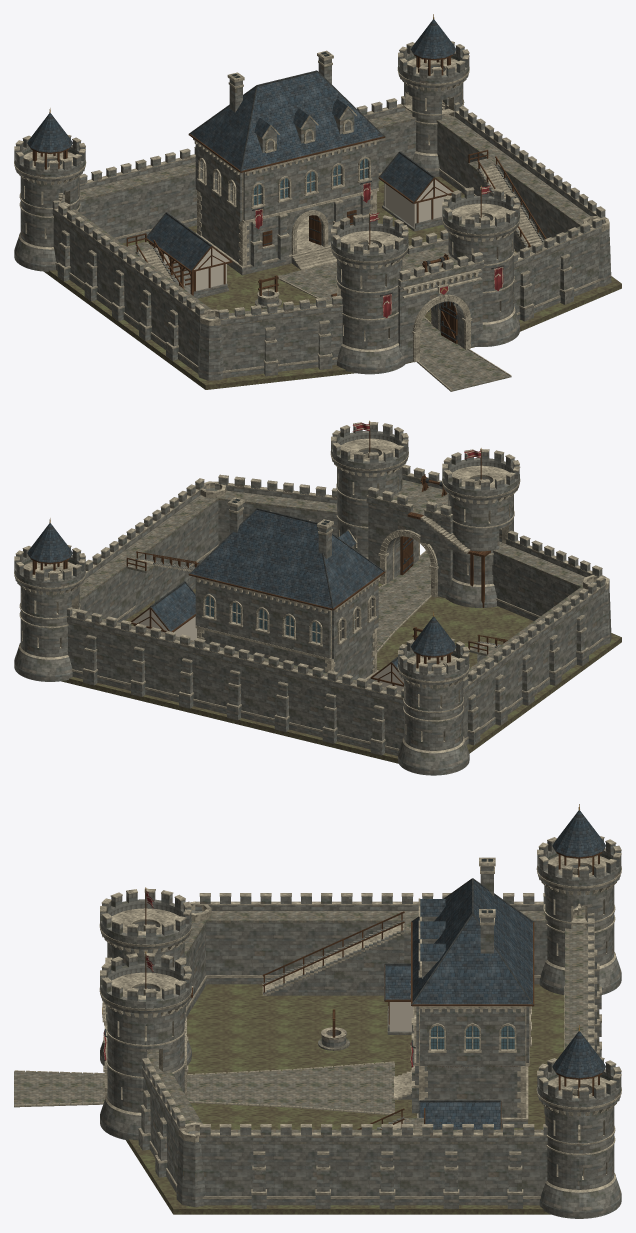
The model's file is Highmere_LOD1.fbx.
3 renders of one model, top to bottom at view 1: azimuth 30°, elevation 25°; view 2: azimuth 150°, elevation 25°; view 3: azimuth 270°, elevation 25°, orthographic. The views are drawn at different scales.
Visible parts, largest first — view 1: Keep • quoins roof and chimneys, West • long curtain, North • rear curtain, West • gate tower, East • long curtain, West • southern return, Ward • graded earth and foundation, East • gate tower, Gatehouse • vaulted throat and guard terrace, West • rear watchtower, Keep • foundation and lower hall, Keep • South gallery bays (+13 smaller); view 2: North • rear curtain, Keep • quoins roof and chimneys, West • long curtain, West • rear watchtower, East • long curtain, Ward • graded earth and foundation, West • gate tower, East • rear watchtower, Keep • North gallery bays, Gatehouse • vaulted throat and guard terrace, East • gate tower, West • southern return (+8 smaller); view 3: East • long curtain, Ward • graded earth and foundation, Keep • quoins roof and chimneys, West • long curtain, East • rear watchtower, East • gate tower, Ward • gate road and keep apron, West • rear watchtower, Keep • East gallery bays, West stair, West • gate tower, Keep • foundation and lower hall (+8 smaller).
Part boxes in pixels (<box>): Keep • quoins roof and chimneys: <box>188,50,385,266</box>; West • long curtain: <box>46,200,214,373</box>; North • rear curtain: <box>61,96,416,243</box>; West • gate tower: <box>330,214,408,374</box>; East • long curtain: <box>429,98,606,239</box>; West • southern return: <box>211,295,365,378</box>; Ward • graded earth and foundation: <box>44,176,621,389</box>; East • gate tower: <box>442,187,520,346</box>; Gatehouse • vaulted throat and guard terrace: <box>397,229,484,363</box>; West • rear watchtower: <box>14,108,86,271</box>; Keep • foundation and lower hall: <box>196,188,378,275</box>; Keep • South gallery bays: <box>243,139,379,220</box>; North • rear curtain: <box>66,607,403,755</box>; Keep • quoins roof and chimneys: <box>188,497,385,673</box>; West • long curtain: <box>463,576,606,745</box>; West • rear watchtower: <box>397,611,469,775</box>; East • long curtain: <box>79,478,219,622</box>; Ward • graded earth and foundation: <box>61,582,621,763</box>; West • gate tower: <box>442,449,520,607</box>; East • rear watchtower: <box>14,518,86,681</box>; Keep • North gallery bays: <box>194,577,330,658</box>; Gatehouse • vaulted throat and guard terrace: <box>366,464,453,598</box>; East • gate tower: <box>330,422,408,574</box>; West • southern return: <box>492,528,604,620</box>; East • long curtain: <box>195,1124,579,1208</box>; Ward • graded earth and foundation: <box>126,984,564,1214</box>; Keep • quoins roof and chimneys: <box>411,857,534,1117</box>; West • long curtain: <box>195,893,576,984</box>; East • rear watchtower: <box>536,1025,621,1218</box>; East • gate tower: <box>99,953,192,1140</box>; Ward • gate road and keep apron: <box>14,1061,394,1115</box>; West • rear watchtower: <box>536,804,621,994</box>; Keep • East gallery bays: <box>419,1006,526,1065</box>; West stair: <box>262,911,404,995</box>; West • gate tower: <box>99,888,192,1065</box>; Keep • foundation and lower hall: <box>411,1018,529,1128</box>.
Bounding box in the file's own units: 53.04 × 20.1 × 53.02.
